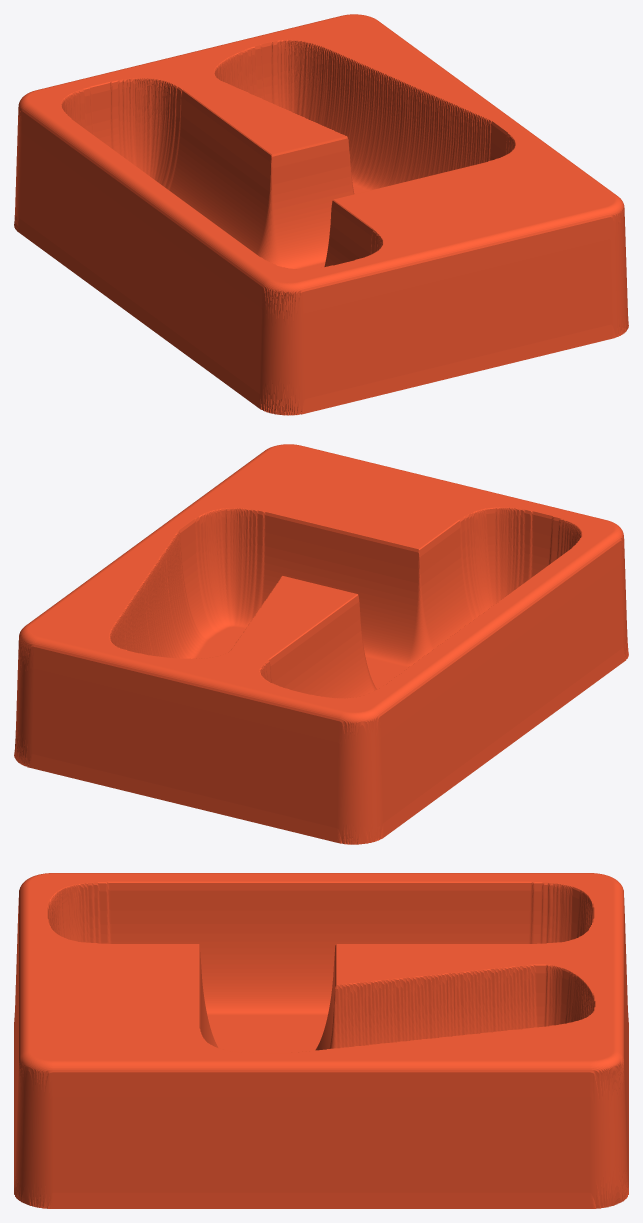
File: mold.glb
The picture shows the model from 3 angles, top to bottom: view 1: azimuth 30°, elevation 25°; view 2: azimuth 150°, elevation 25°; view 3: azimuth 270°, elevation 25°; orthographic projection. The views are drawn at different scales.
Parts seen in each view (by area): view 1: geometry_0; view 2: geometry_0; view 3: geometry_0.
Part boxes in pixels (left/top/right/bottom): geometry_0: left=14, top=14, right=628, bottom=415; geometry_0: left=14, top=444, right=628, bottom=844; geometry_0: left=14, top=873, right=628, bottom=1208.
Size of the model in its own units: 0.1103 by 0.0365 by 0.1435.
